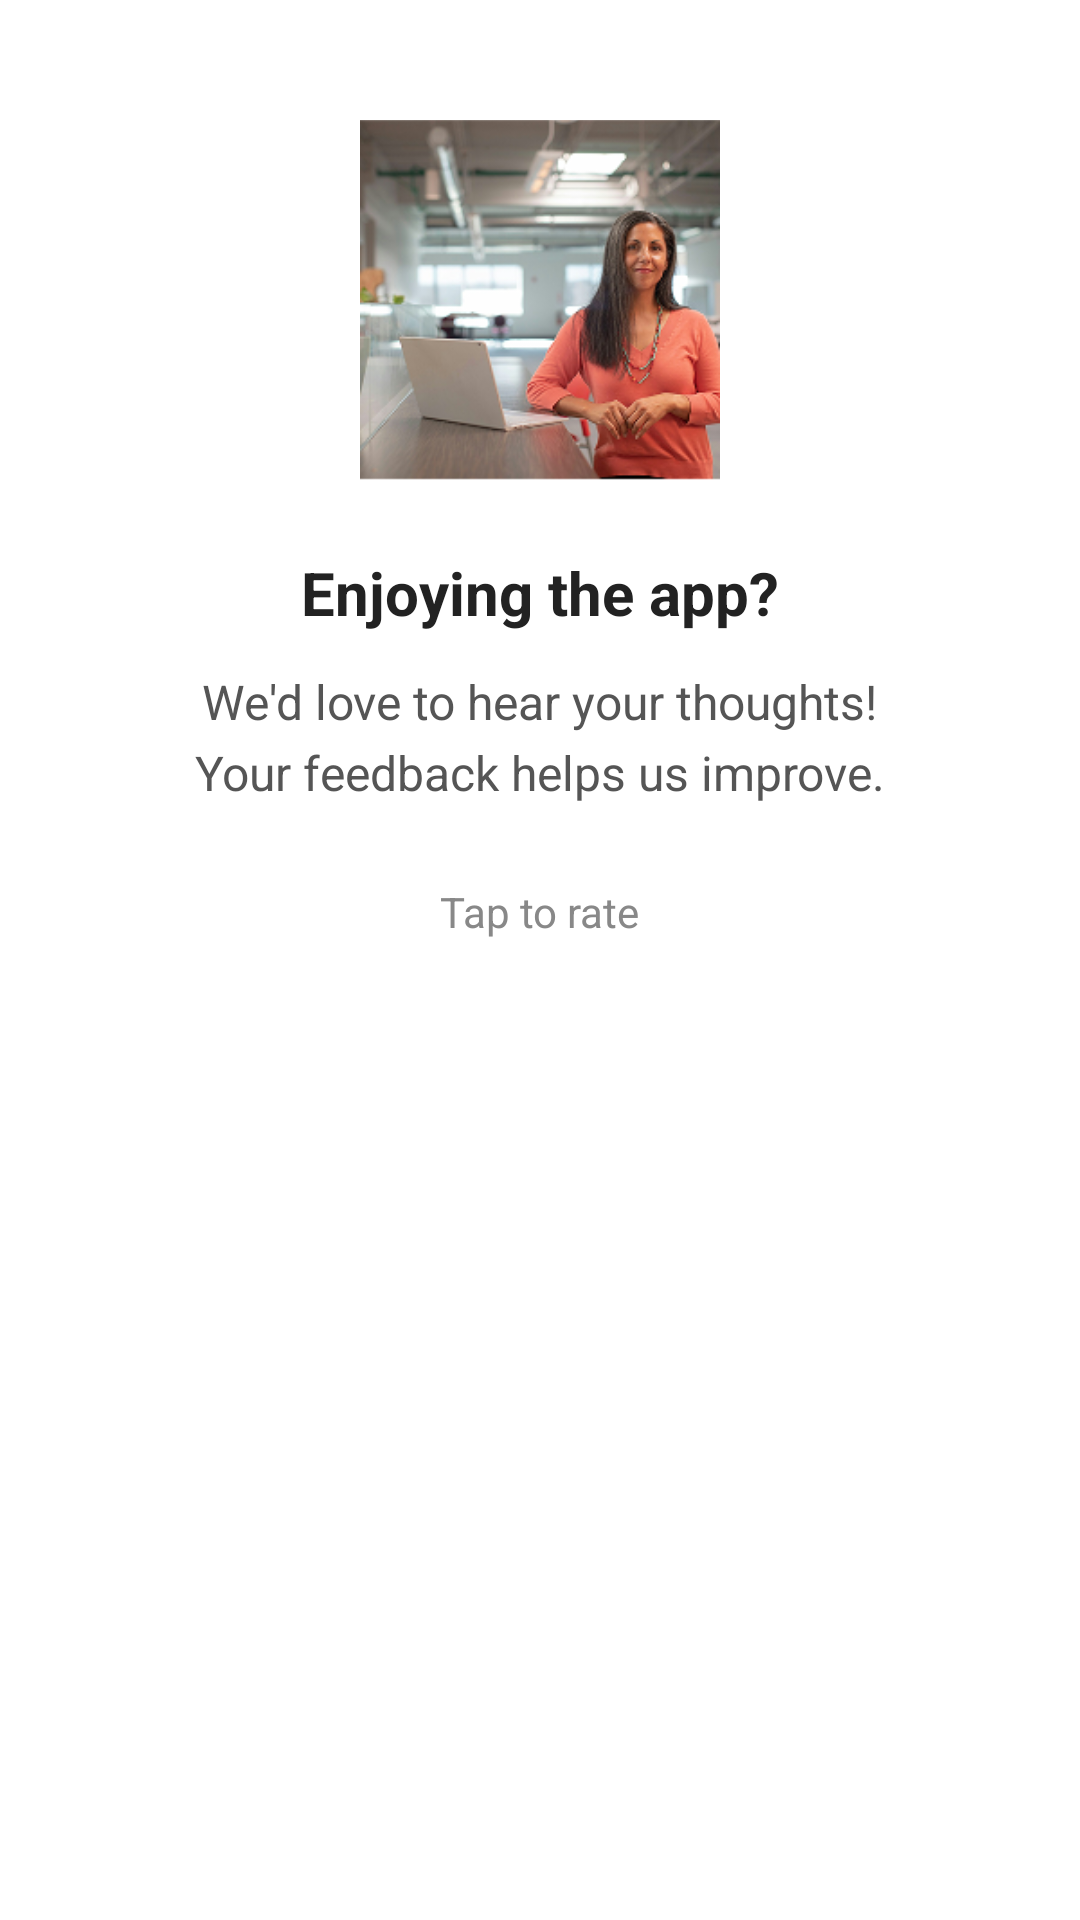

Icon bounding boxes for this 1080w x 1920h phone screenshot, format {"left": x1, "top": y1, "right": x2, "bottom": y2}:
rating pic: {"left": 360, "top": 120, "right": 720, "bottom": 480}
